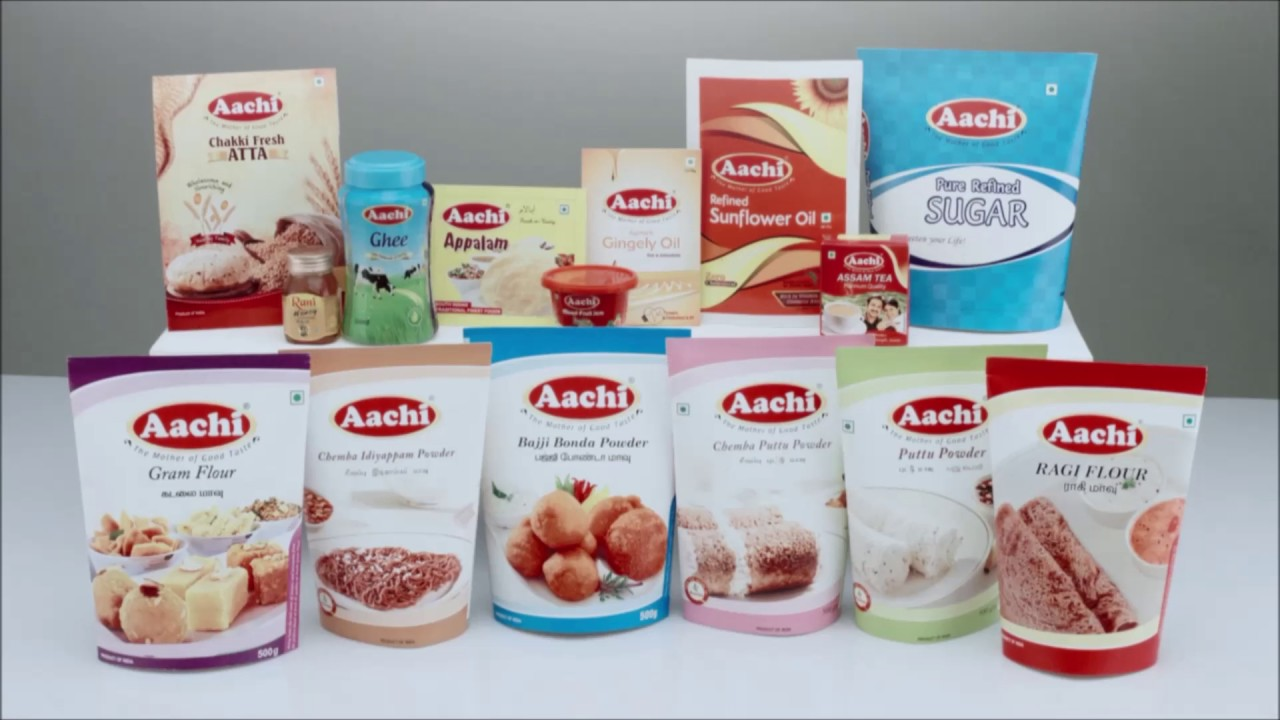VEG: (289, 387, 307, 408), (1181, 410, 1199, 430), (676, 401, 694, 420), (840, 416, 856, 437), (1043, 81, 1060, 97), (313, 76, 327, 88), (683, 156, 697, 168), (559, 201, 571, 214)
